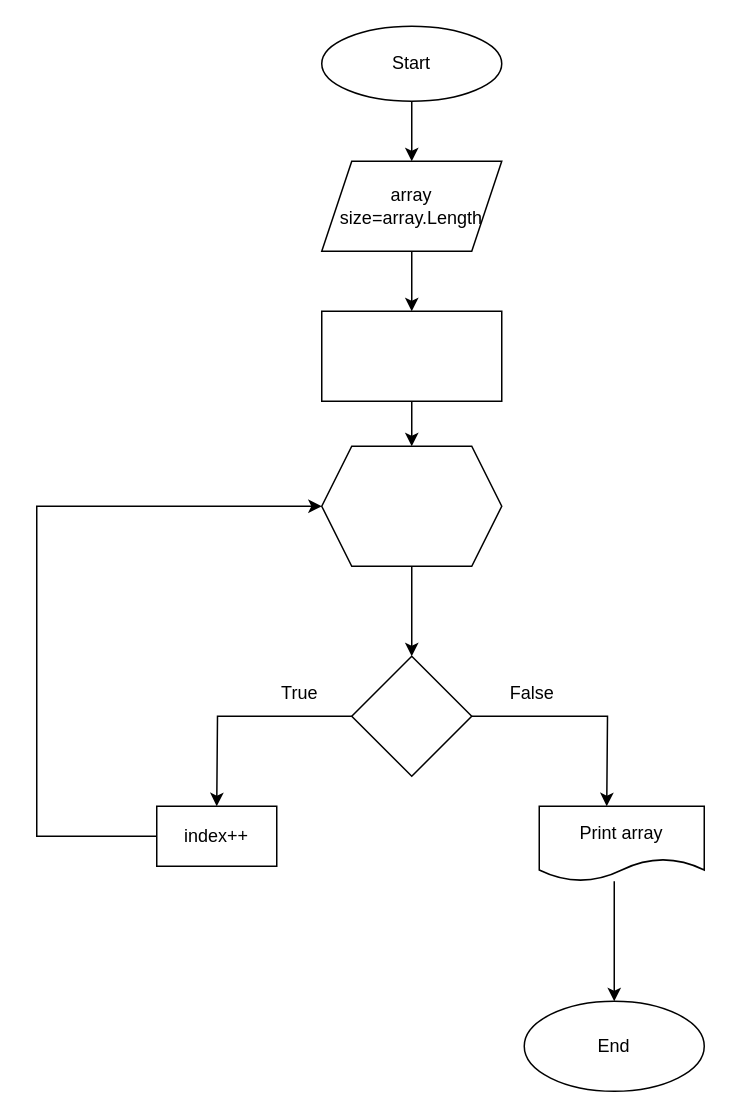
This 731x1118 diagram has some shape labels left out. The shapes that lost their labels are listed below. From the top down, each one's centre as x and y in pixels, then its label:
At pixel 411 355: "index=0".
At pixel 411 505: "i=0, i<size, i++".
At pixel 411 715: "array[i]<=3".
